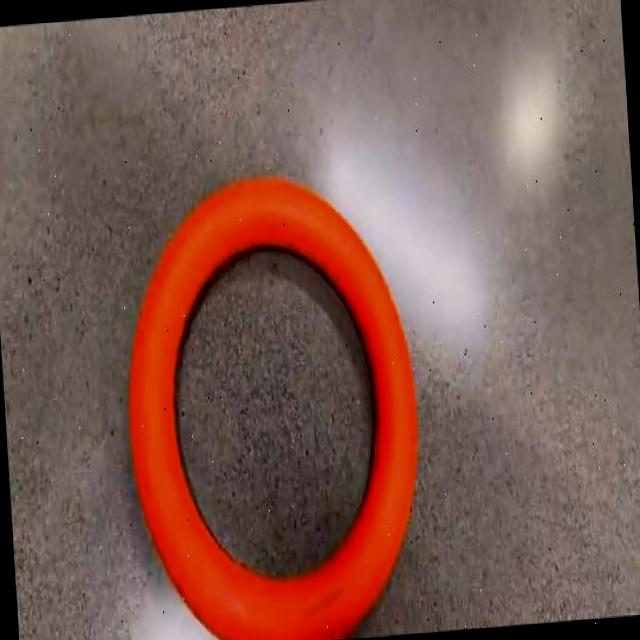note: (130, 177, 418, 640)
